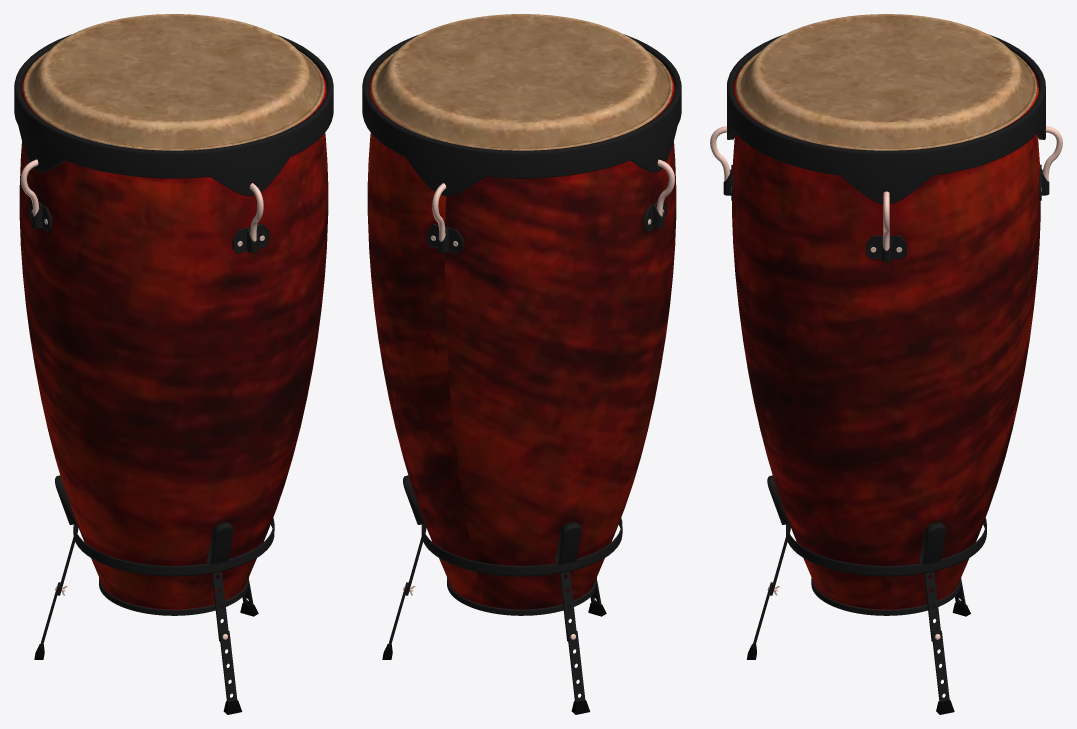
The model's file is conga.glb.
3 views of the same model, side by side, from view 1: azimuth 30°, elevation 25°; view 2: azimuth 150°, elevation 25°; view 3: azimuth 270°, elevation 25° (orthographic).
Parts seen in each view (by area): view 1: conga; view 2: conga; view 3: conga.
Part boxes in pixels (<box>): conga: <box>14,14,333,714</box>; conga: <box>362,14,681,714</box>; conga: <box>710,14,1062,714</box>.
Bounding box in the file's own units: 0.4105 × 0.76 × 0.4105.
Materials: 1 (1 with a texture image).
